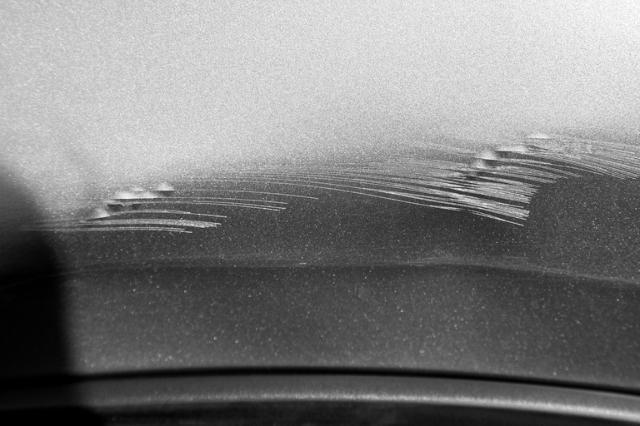Door: (15, 112, 640, 277)
